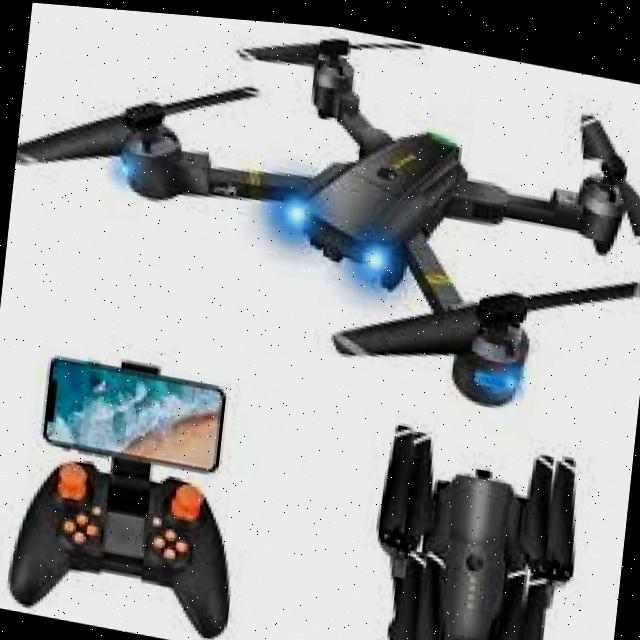drone: (0, 0, 640, 432)
